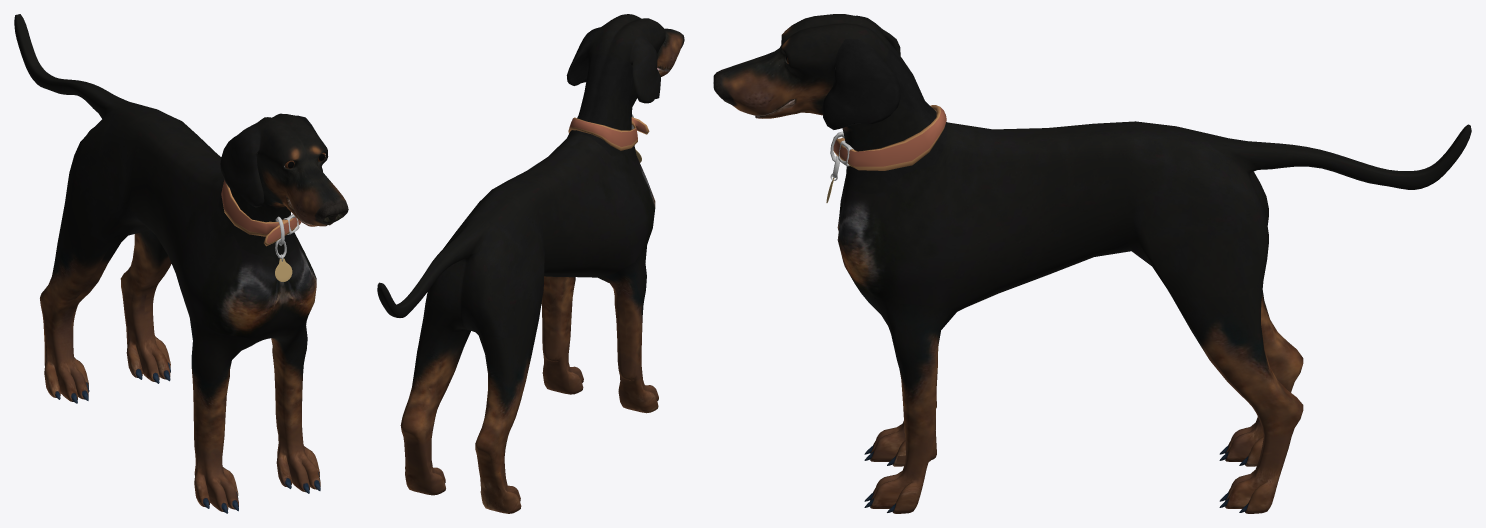
File: scene.glb.glb
3 renders of one model, left to right at view 1: azimuth 30°, elevation 25°; view 2: azimuth 150°, elevation 25°; view 3: azimuth 270°, elevation 25°, orthographic. The views are drawn at different scales.
Visible parts, largest first — view 1: pCylinder4, polySurface10; view 2: pCylinder4, polySurface10; view 3: pCylinder4, polySurface10.
Boxes of the visible parts, x1,y1,x2,y2 form: pCylinder4: (14, 14, 348, 513); polySurface10: (221, 180, 301, 261); pCylinder4: (377, 14, 684, 513); polySurface10: (568, 114, 649, 150); pCylinder4: (713, 14, 1471, 513); polySurface10: (830, 105, 946, 180).
Bounding box in the file's own units: 0.3737 × 1.17 × 1.74.
9 materials, 1 textured.
